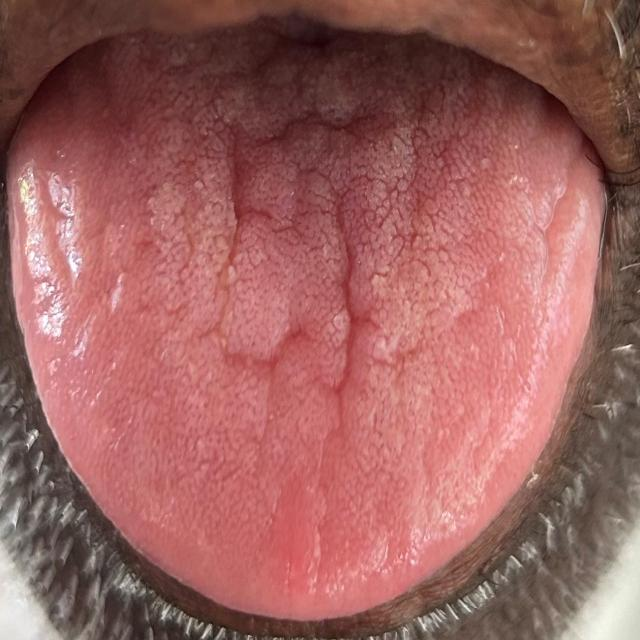processing_area: (7, 28, 612, 622)
